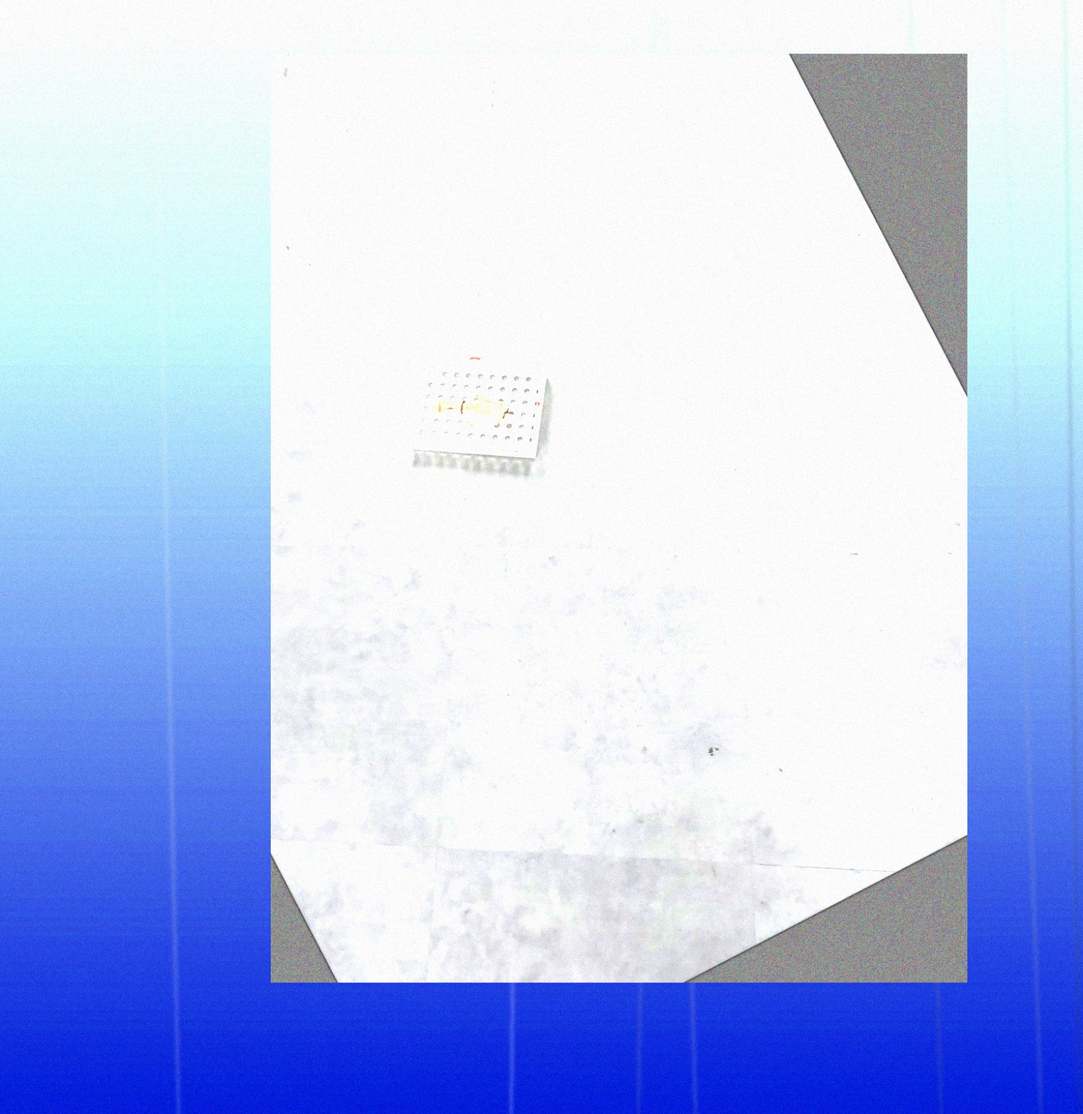basket: (406, 356, 552, 462)
mannequin: (430, 391, 514, 425)
